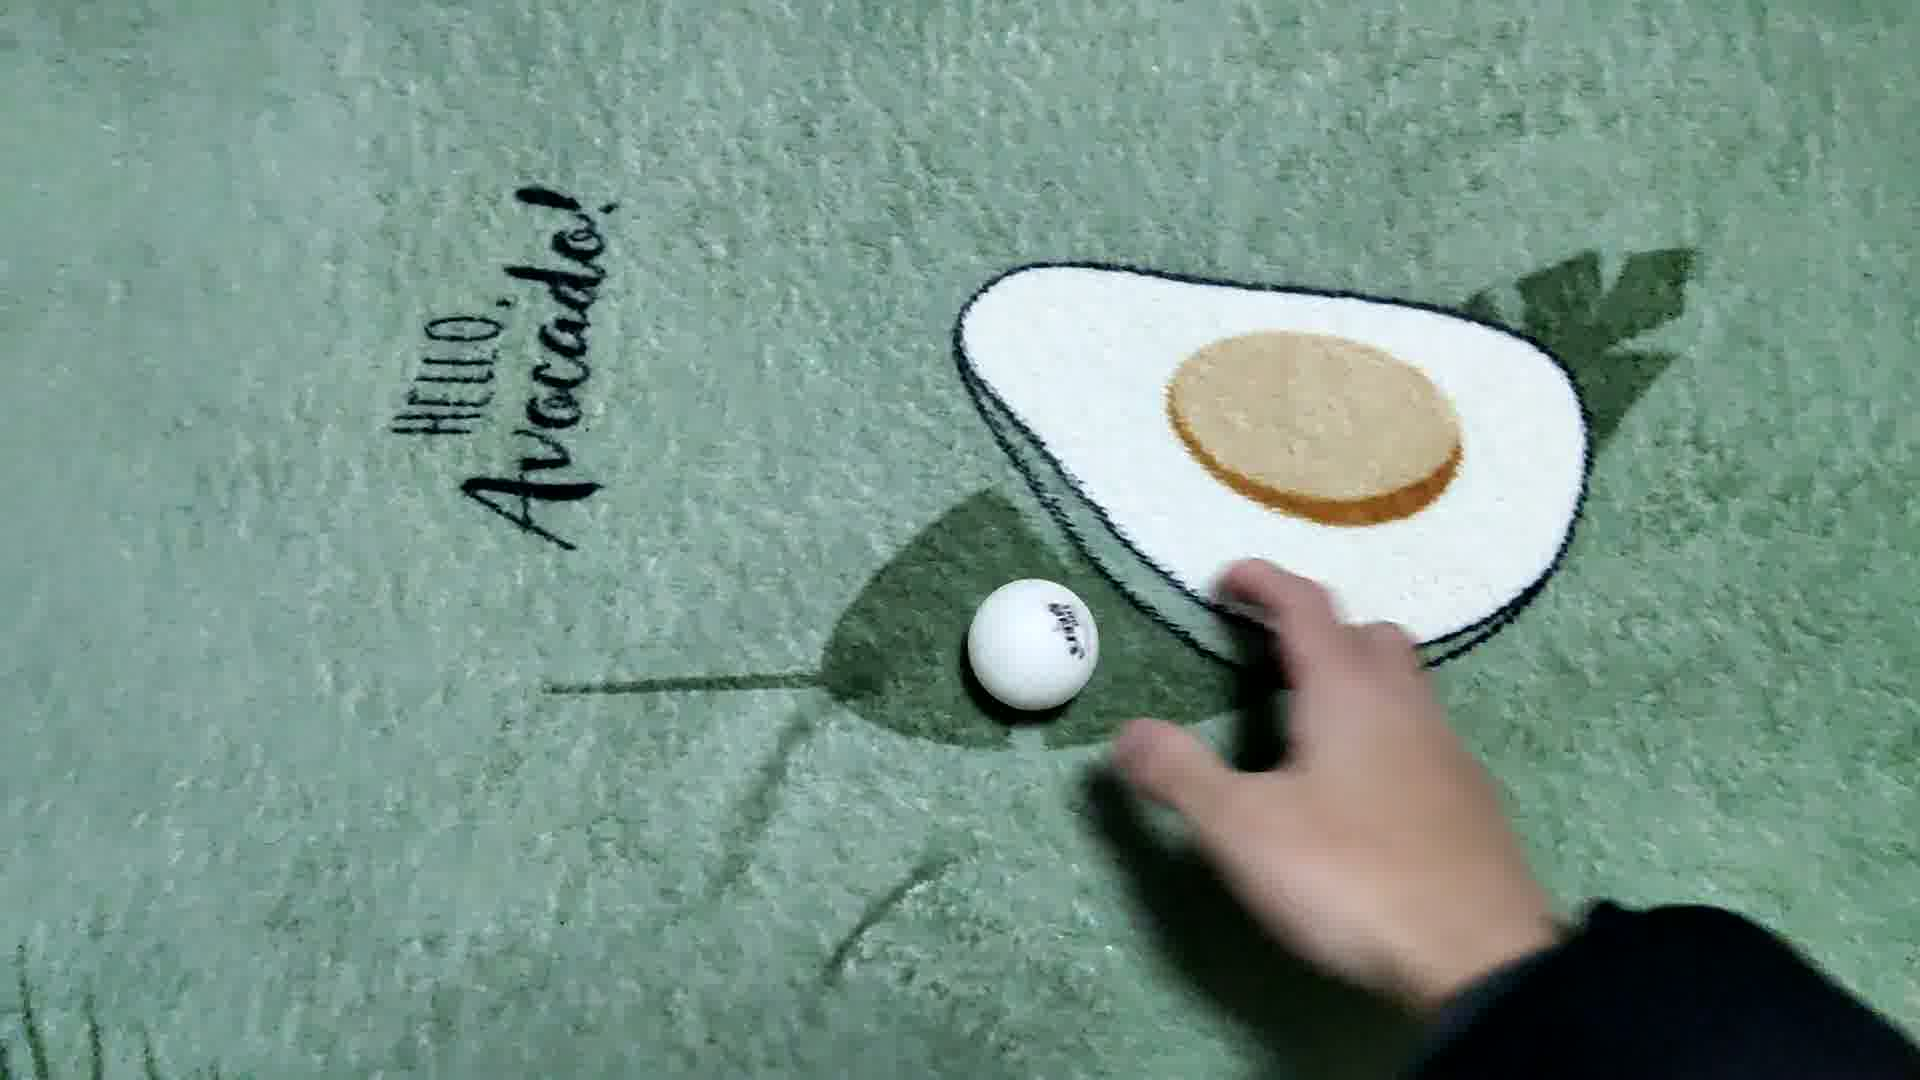Ball: (964, 578, 1104, 713)
